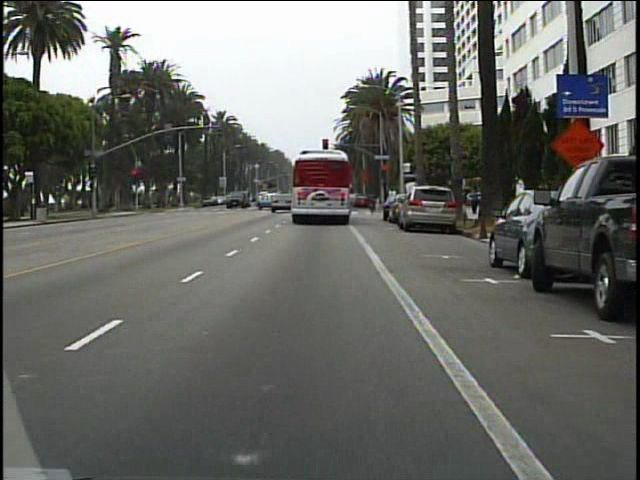person: (469, 185, 480, 216)
